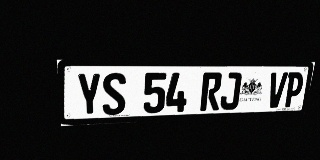4: (165, 73, 188, 113)
5: (143, 73, 167, 114)
J: (219, 72, 242, 110)
P: (283, 72, 305, 107)
R: (200, 72, 223, 111)
S: (102, 73, 126, 115)
V: (266, 72, 288, 108)
Y: (76, 73, 102, 117)
